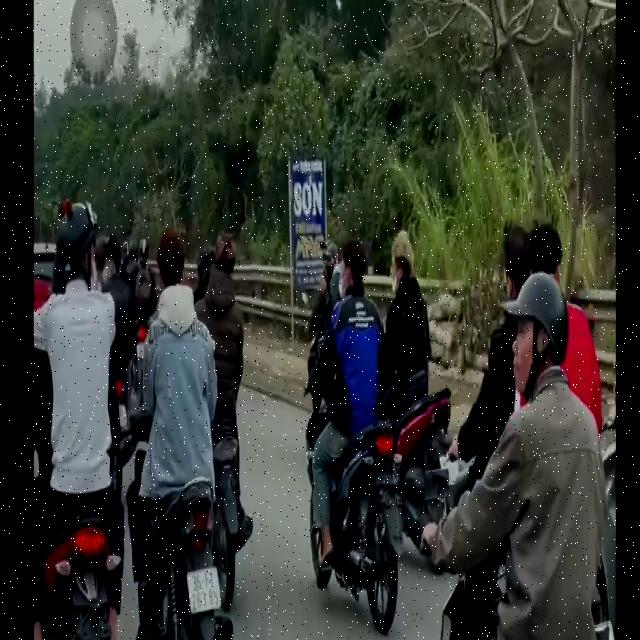helmet: (510, 266, 569, 428), (53, 194, 101, 325)
no_helmet: (158, 228, 187, 306), (390, 231, 419, 308), (340, 234, 365, 306)
